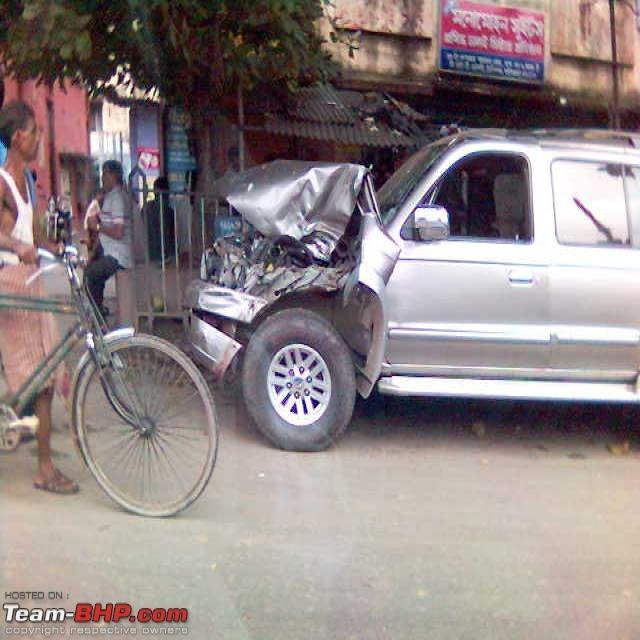accident: (185, 130, 640, 450)
